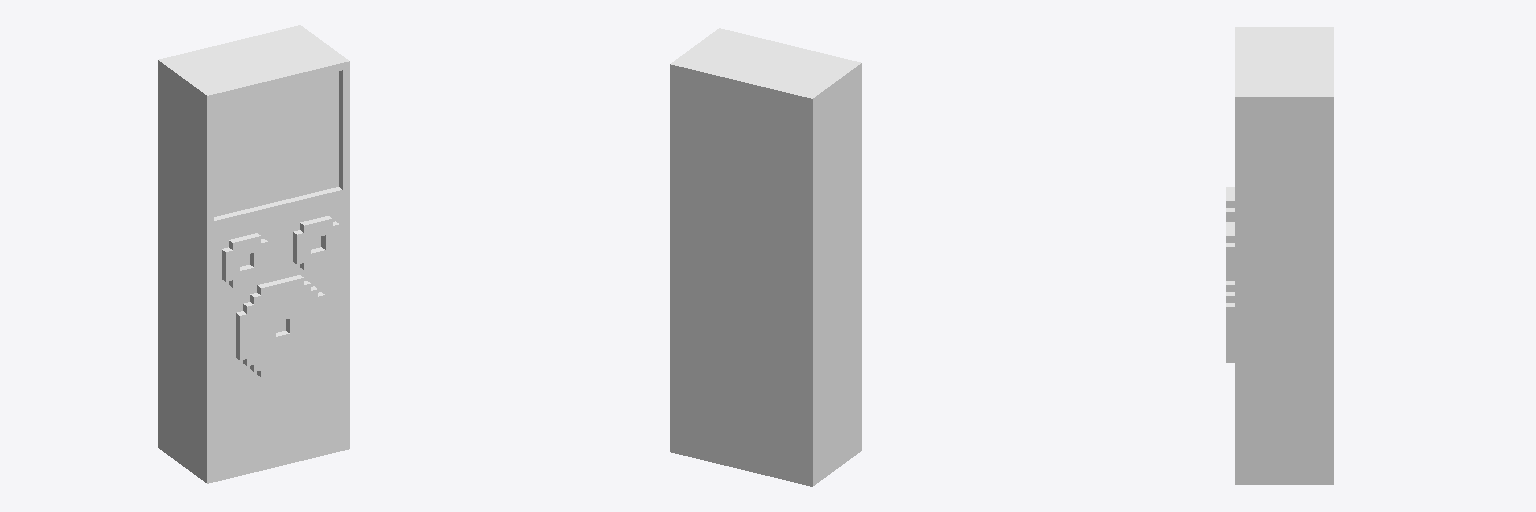
File: mainPc.obj
The picture shows the model from 3 angles: view 1: azimuth 30°, elevation 25°; view 2: azimuth 150°, elevation 25°; view 3: azimuth 270°, elevation 25°; orthographic projection.
Parts seen in each view (by area): view 1: object 1; view 2: object 1; view 3: object 1.
Boxes of the visible parts, x1=… form: object 1: x1=158, y1=25, x2=349, y2=483; object 1: x1=670, y1=28, x2=861, y2=486; object 1: x1=1226, y1=27, x2=1333, y2=484.
Bounding box in the file's own units: 2 × 5.2 × 1.3.